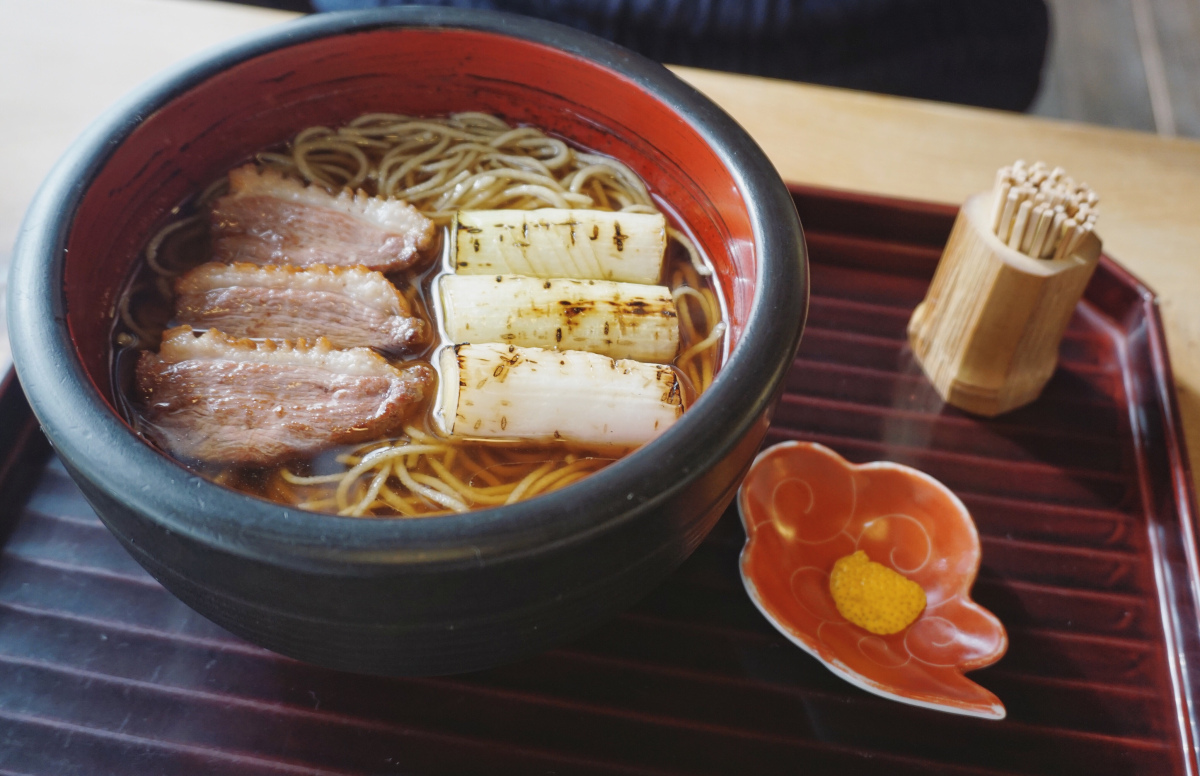Soba: (280, 99, 626, 213), (283, 429, 630, 520)
